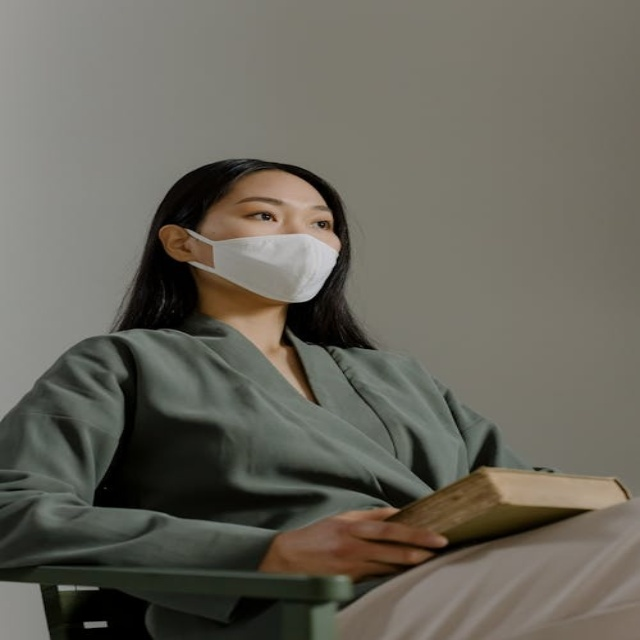Mascara: (182, 227, 341, 302)
Sin_gafas: (227, 190, 329, 230)
Sin_guantes: (265, 505, 447, 582)
